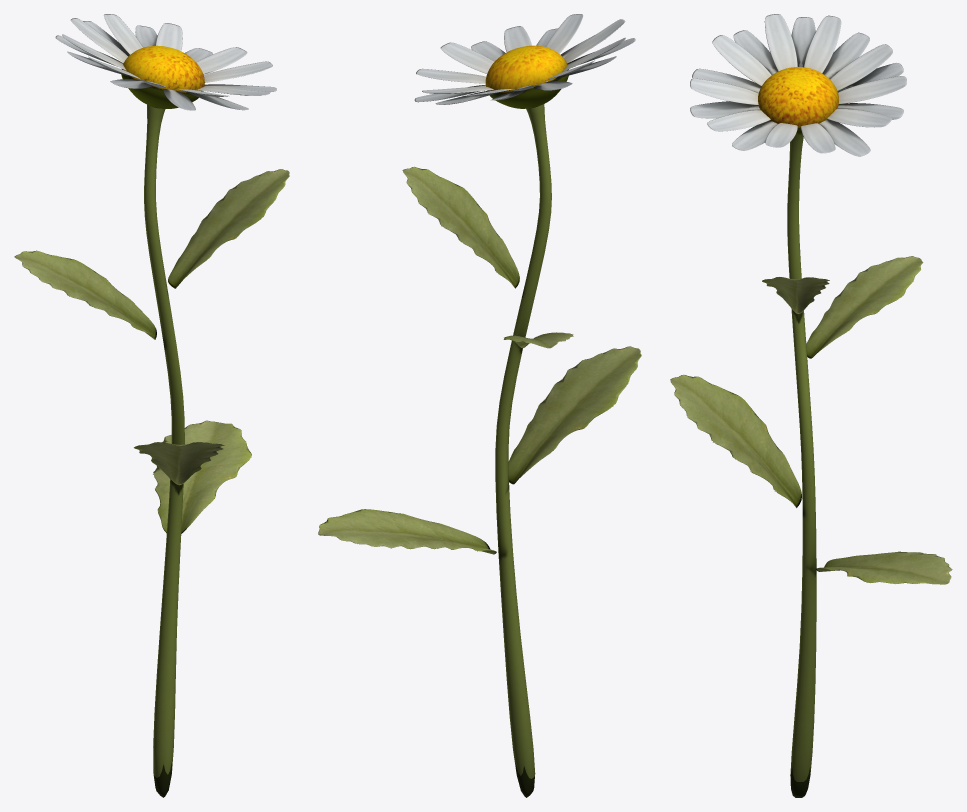
File: Moychechak.fbx
The picture shows the model from 3 angles, left to right: view 1: azimuth 30°, elevation 25°; view 2: azimuth 150°, elevation 25°; view 3: azimuth 270°, elevation 25°; orthographic projection. The views are drawn at different scales.
Parts seen in each view (by area): view 1: 10441_Daisy_v1_max2010_iteration-2; view 2: 10441_Daisy_v1_max2010_iteration-2; view 3: 10441_Daisy_v1_max2010_iteration-2.
Part boxes in pixels (box(x1,y1,x2,y2)): 10441_Daisy_v1_max2010_iteration-2: box(14, 14, 289, 797); 10441_Daisy_v1_max2010_iteration-2: box(318, 14, 641, 797); 10441_Daisy_v1_max2010_iteration-2: box(670, 14, 952, 797).
Size of the model in its own units: 468 by 1498 by 515.
1 material, 1 textured.
